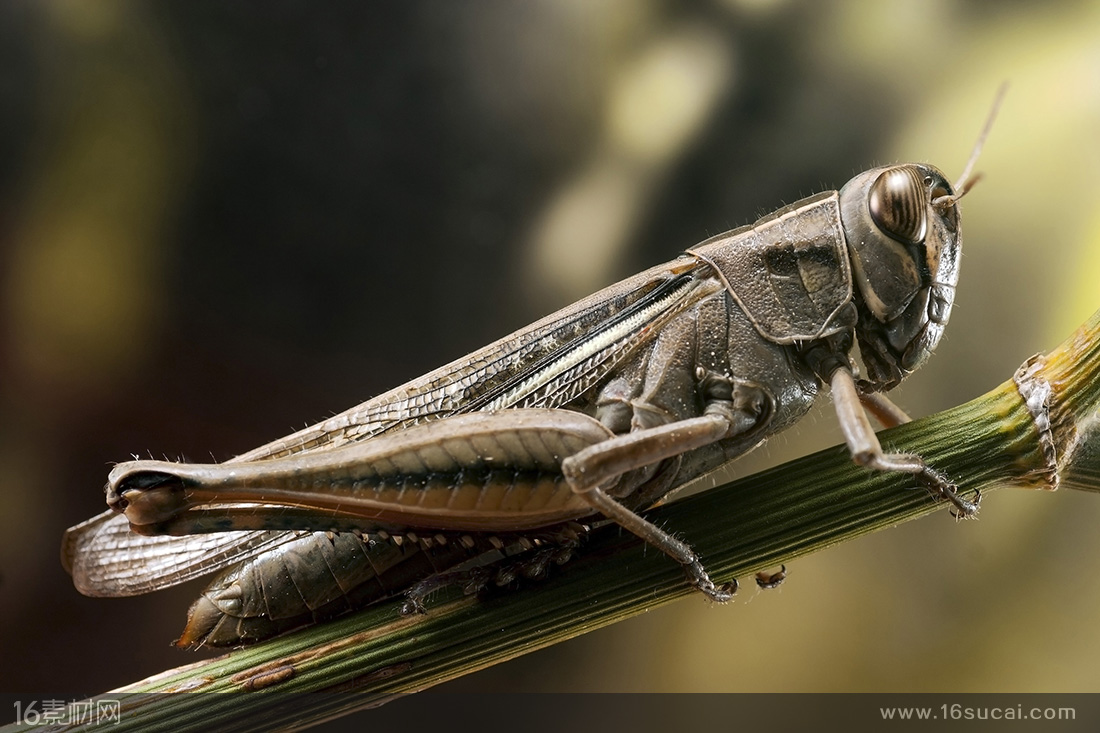huangchong: (77, 153, 1011, 634)
